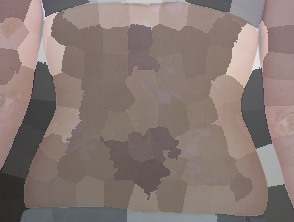vitiligo: (52, 98, 233, 201), (123, 17, 188, 106)
